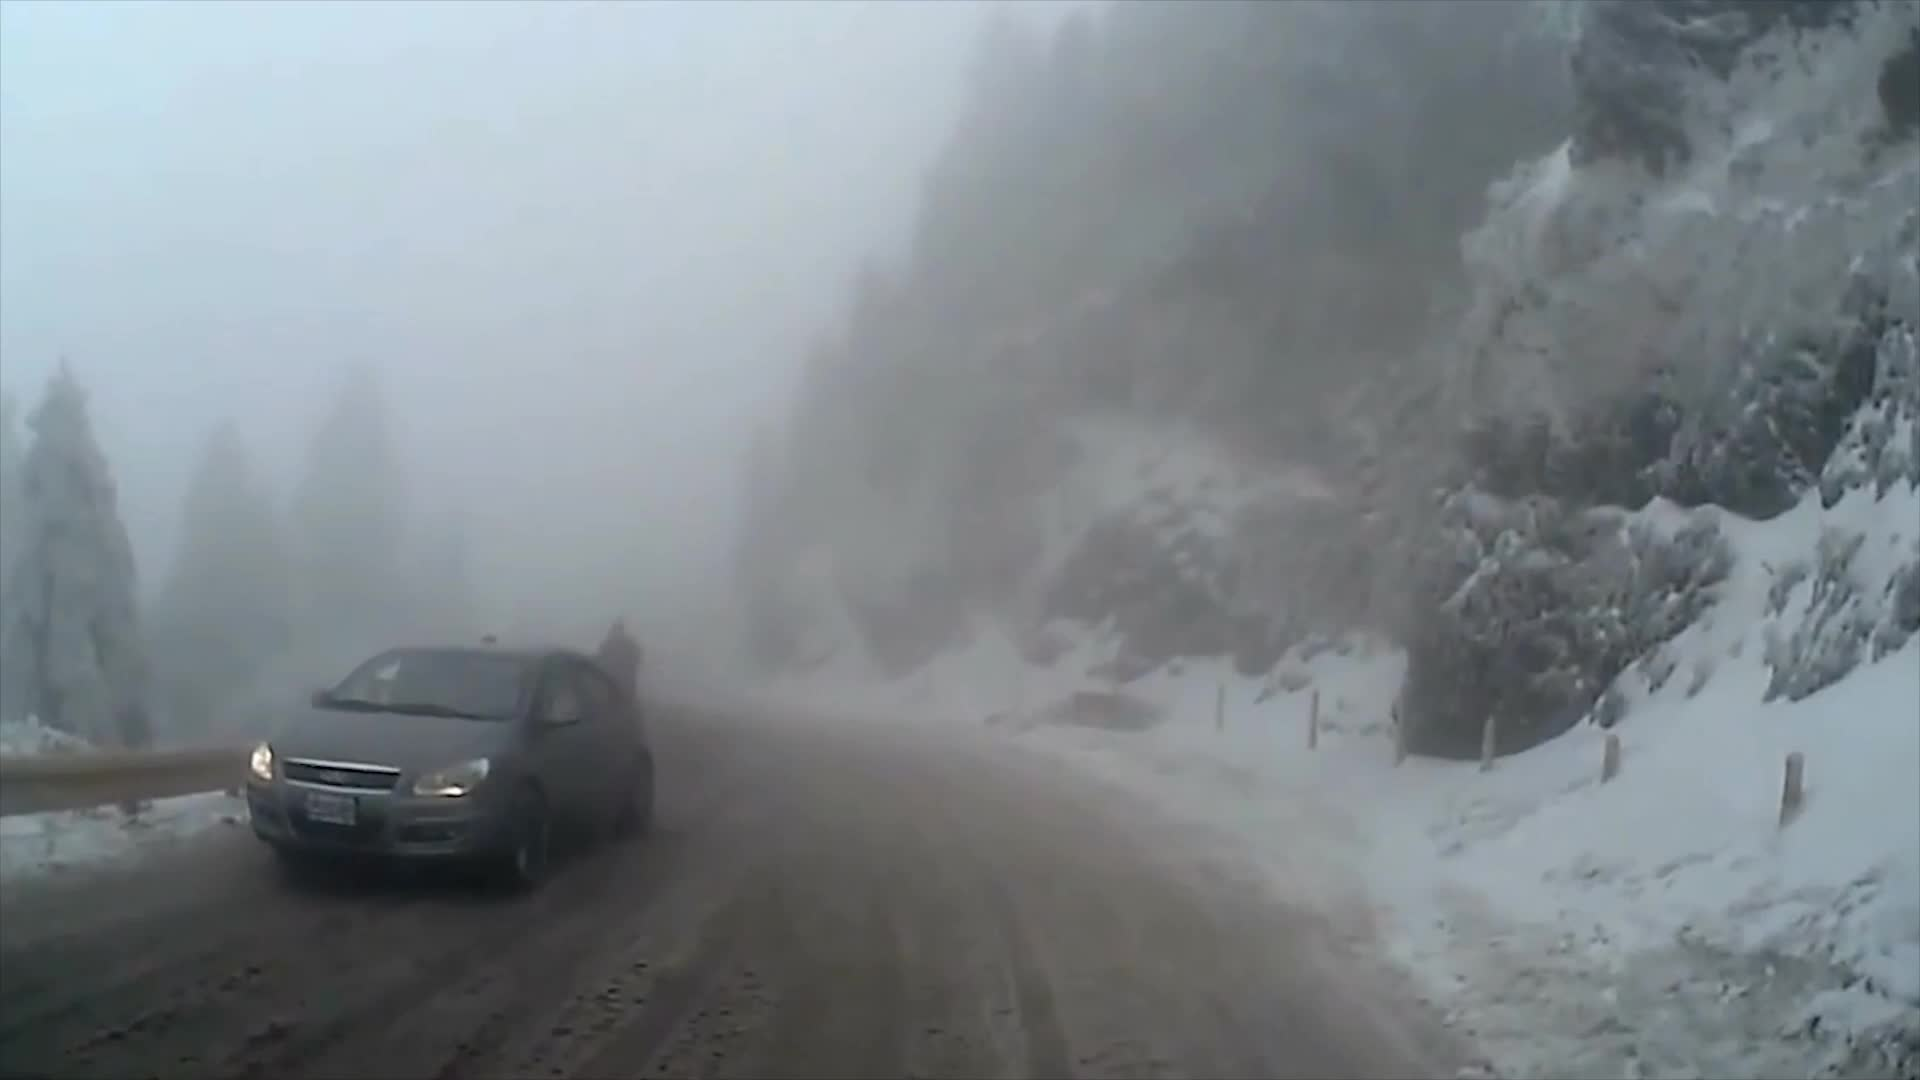vehicle: (243, 637, 654, 890)
